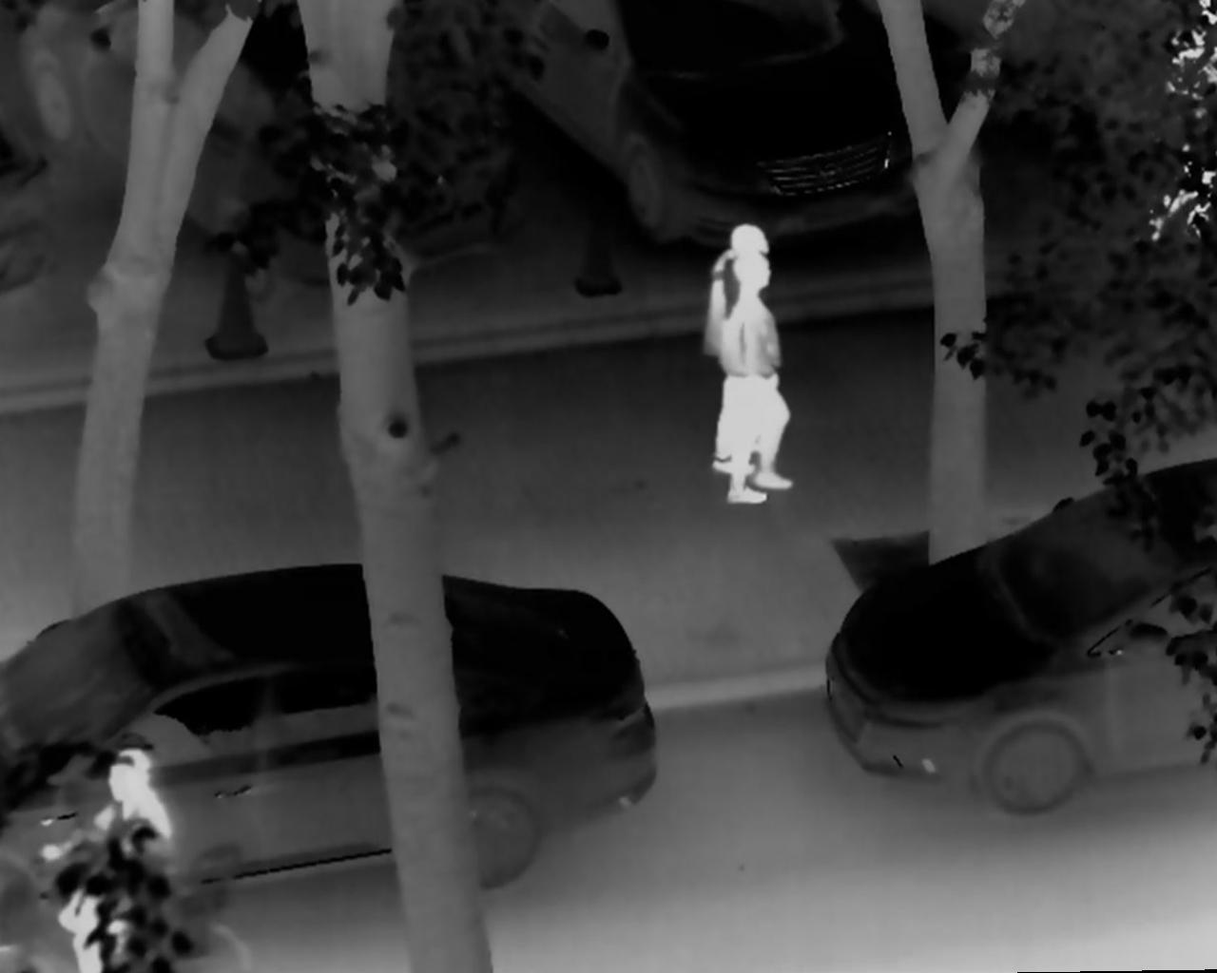person: (38, 745, 198, 973), (706, 213, 787, 478), (721, 255, 801, 506)
